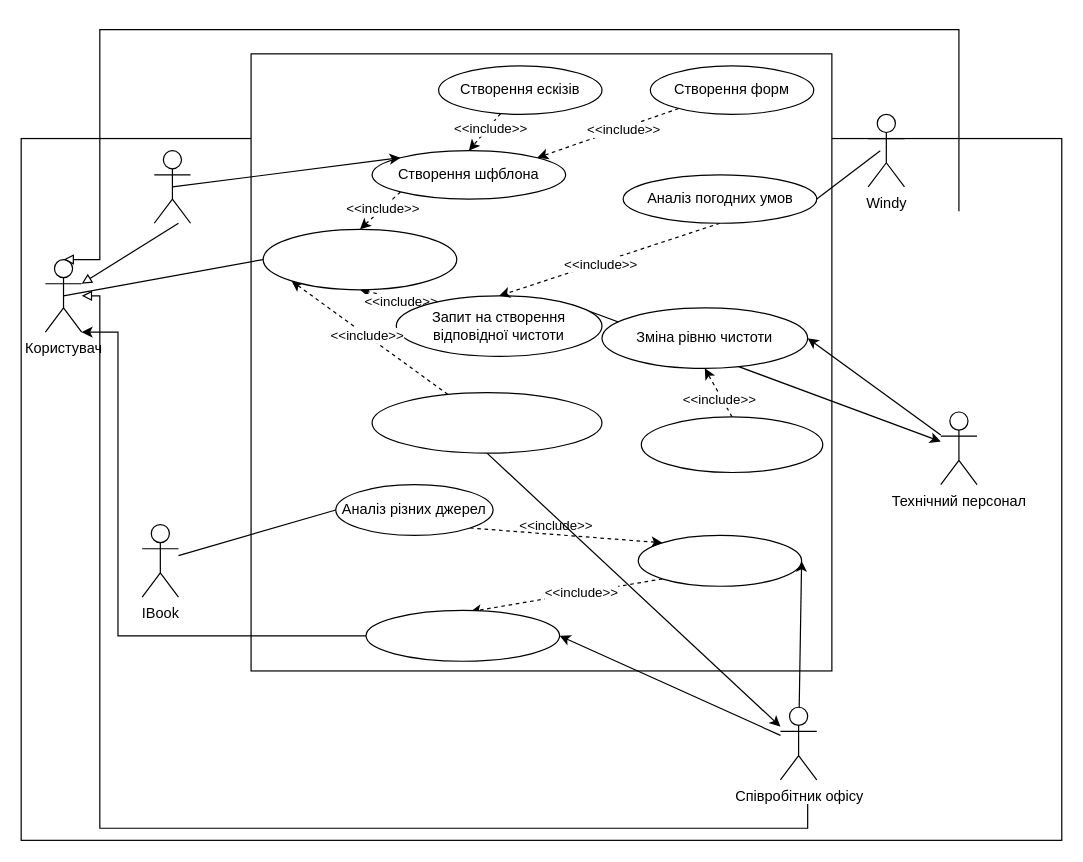
Some shapes in this 1083 by 862 pixel diagram are drawn without their labels. Each missing label, with the centre of its shape:
"Авторизувати користувача" goes at [359,259].
"Архітектор-споживач" goes at [172,186].
"Запит на надання необхідної інформації" goes at [486,422].
"Надання доступу до знайденої інформації" goes at [462,635].
"Попередній аналіз середовища" goes at [731,444].
"Пошук необхідної інформації" goes at [719,560].
